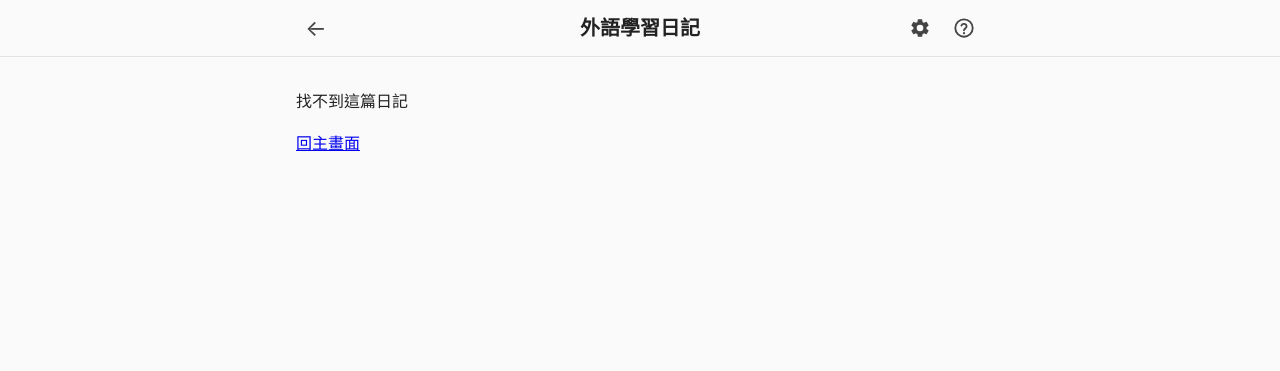
Test: App › has a back button on the not-found entry page, next to 回主畫面
Expected: the text "找不到這篇日記" is shown, [296,90,408,112]
Step 1. Click the button named "返回" → [316, 28], box [296,8,336,48]
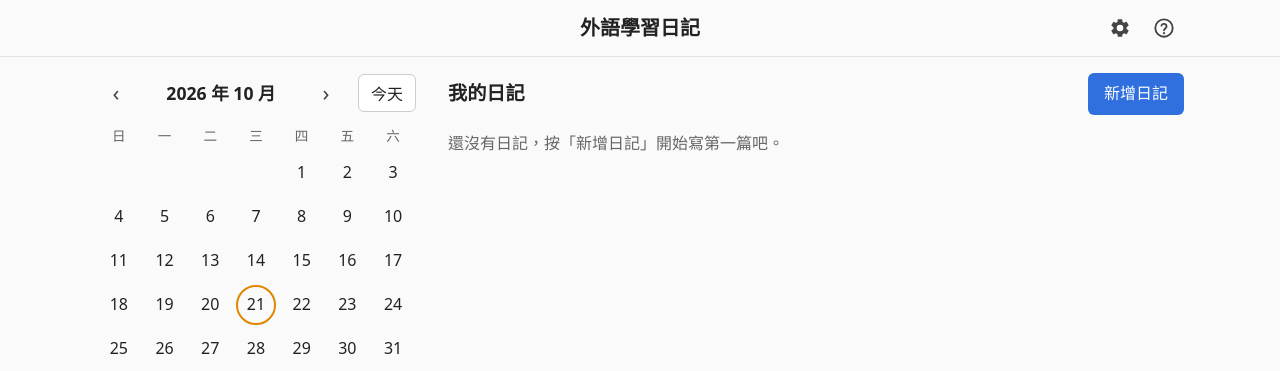
Expected: the text "還沒有日記，按「新增日記」開始寫第一篇吧。" is shown, [448,132,784,154]
